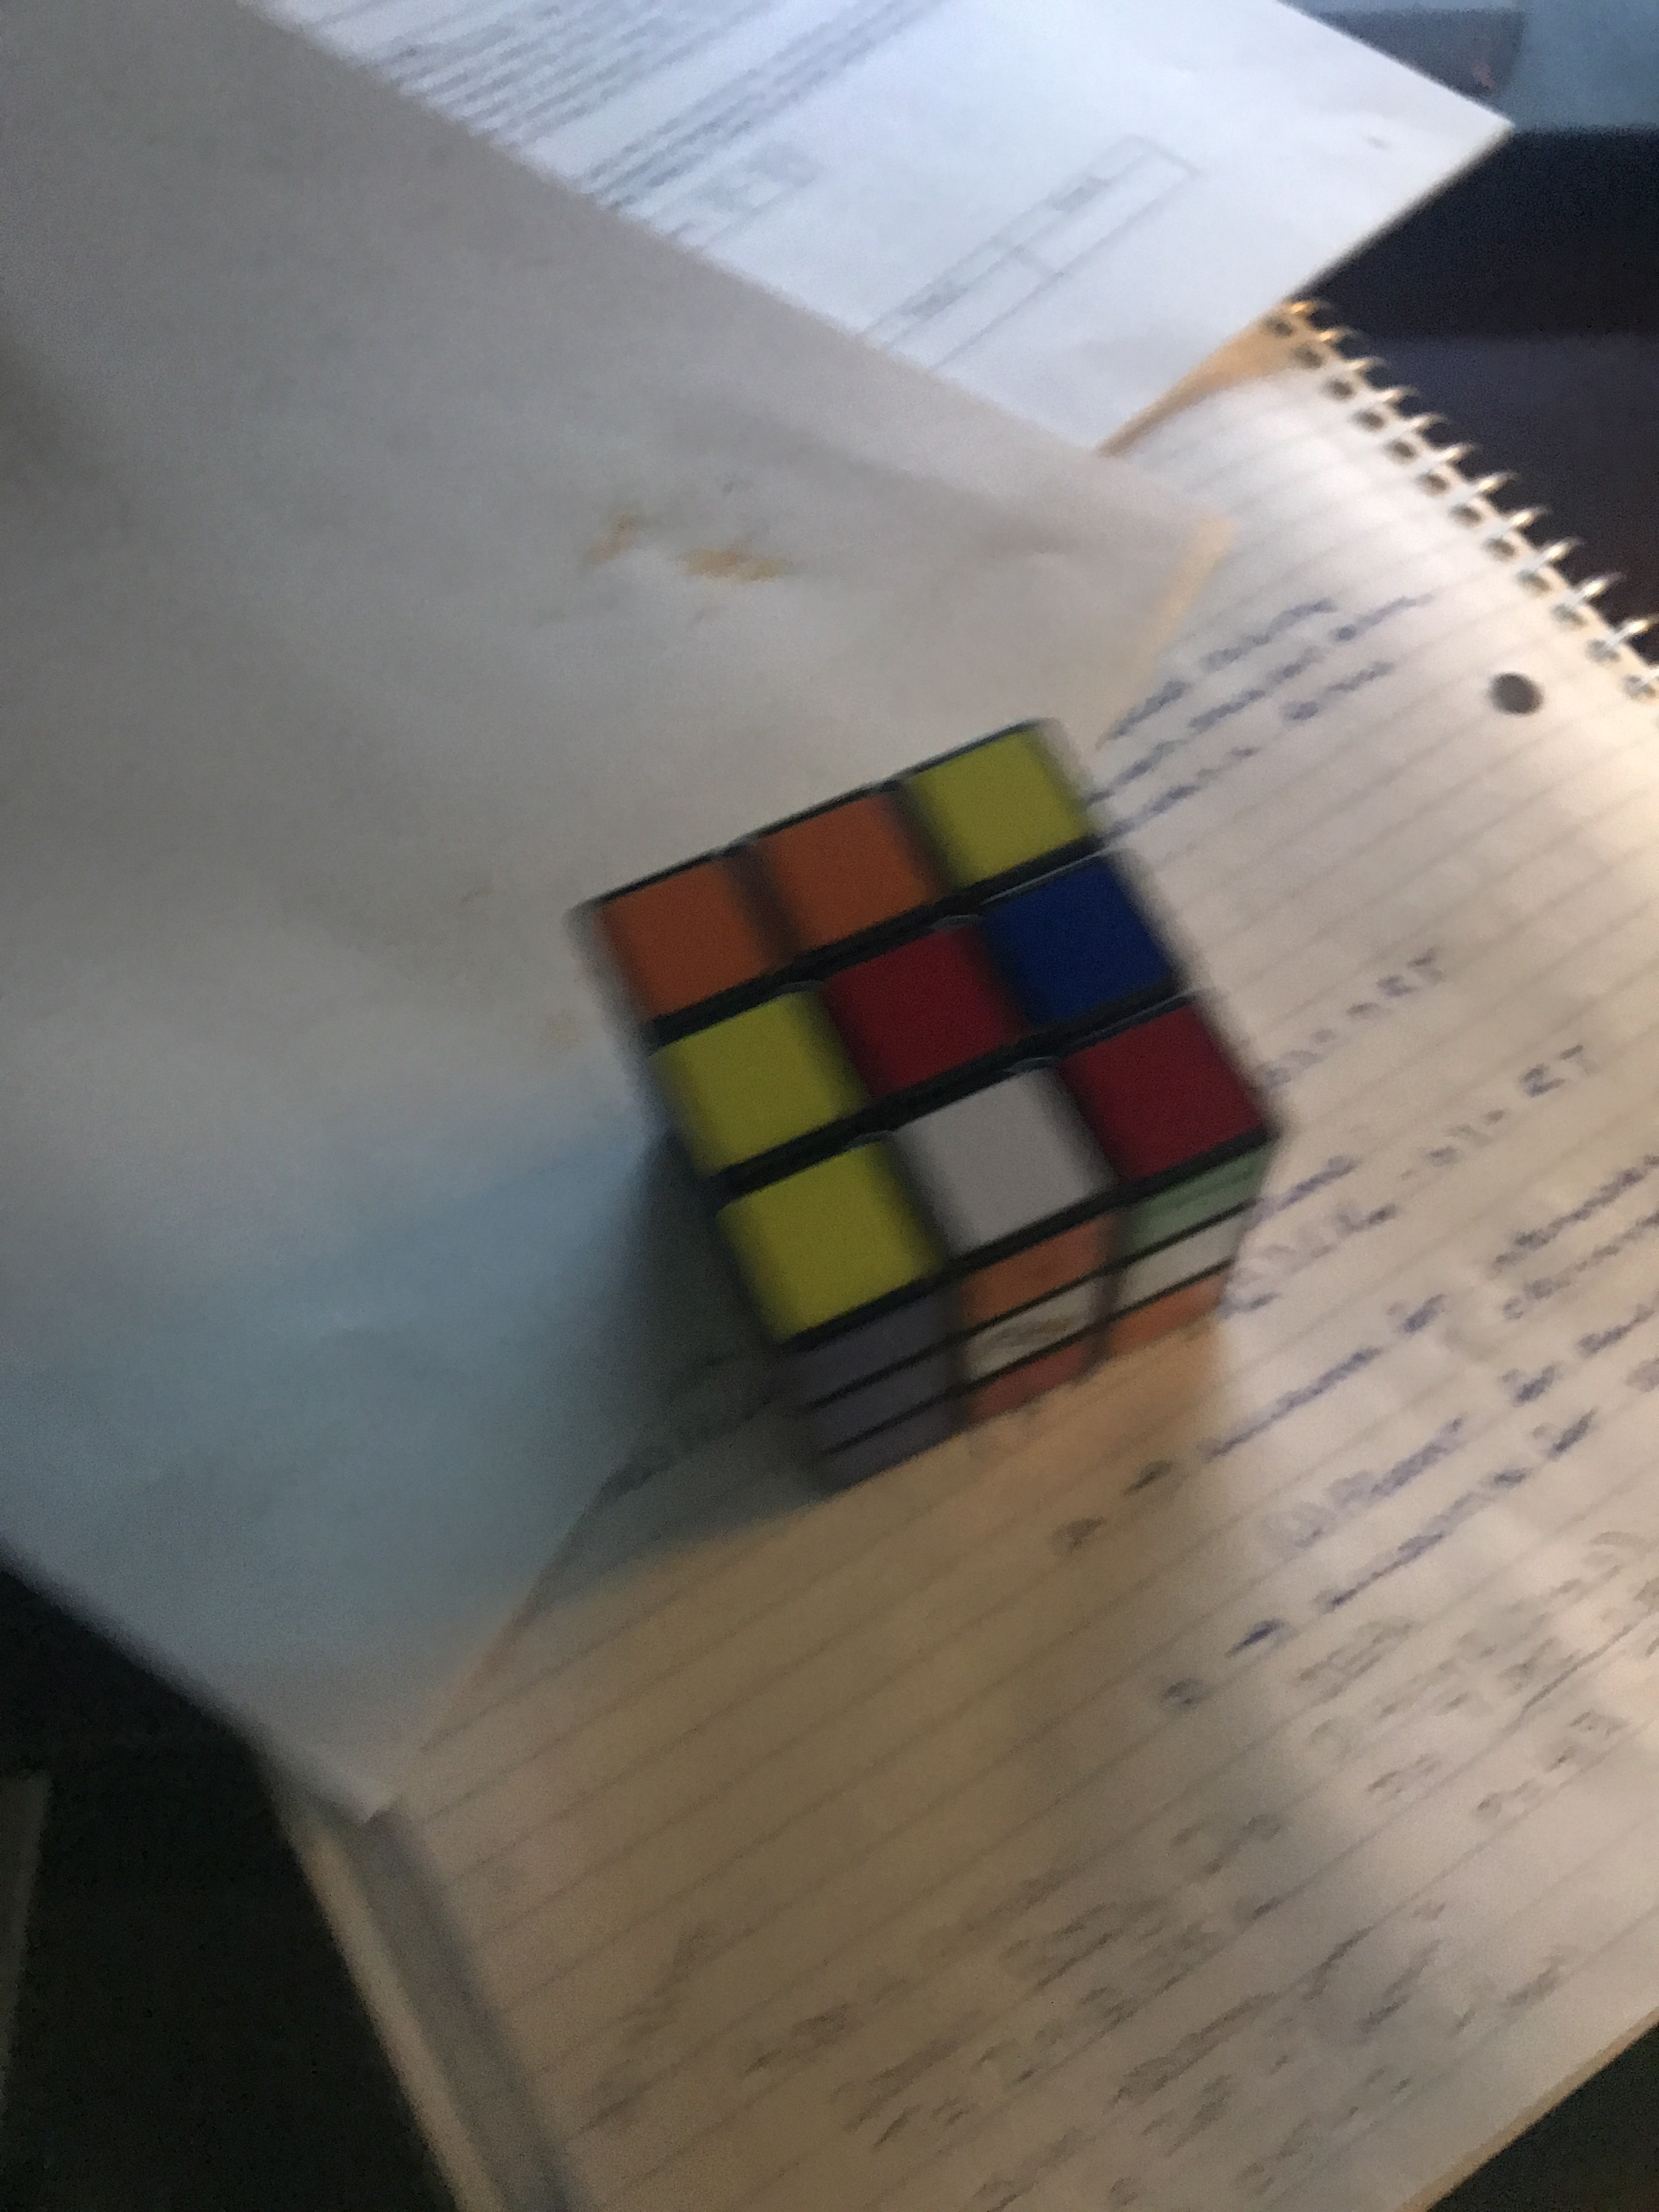rubiks: (568, 714, 1295, 1505)
